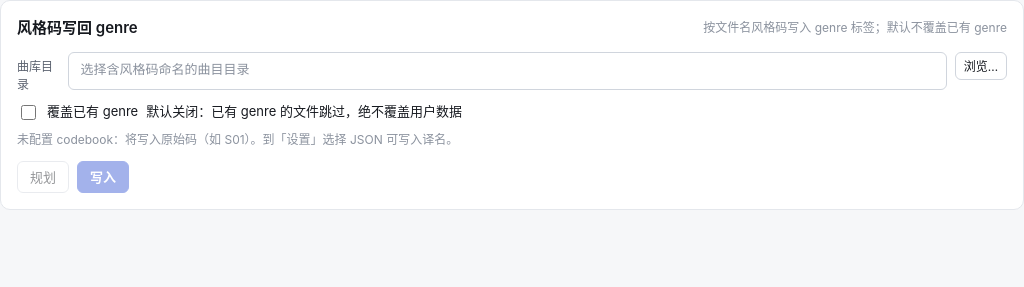
GenrePanel › 无可写项时「写入」仍禁用并给出说明
This screenshot has width=1024, height=287.
In the field labelled "曲库目录": (507, 70) [68, 52, 947, 90], type "/lib"
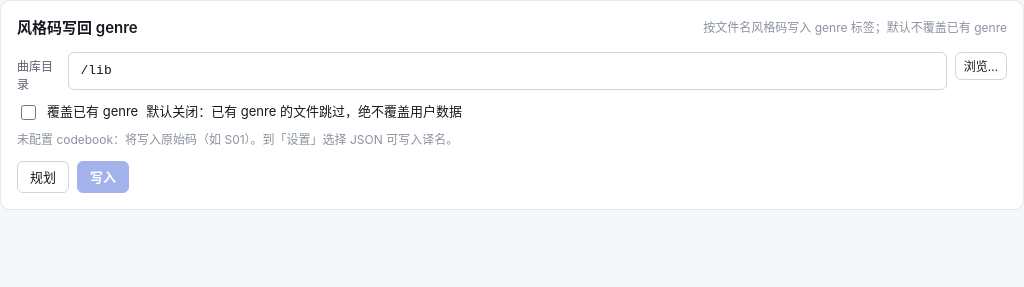
Click the button "规划": click(43, 176) [17, 160, 69, 192]
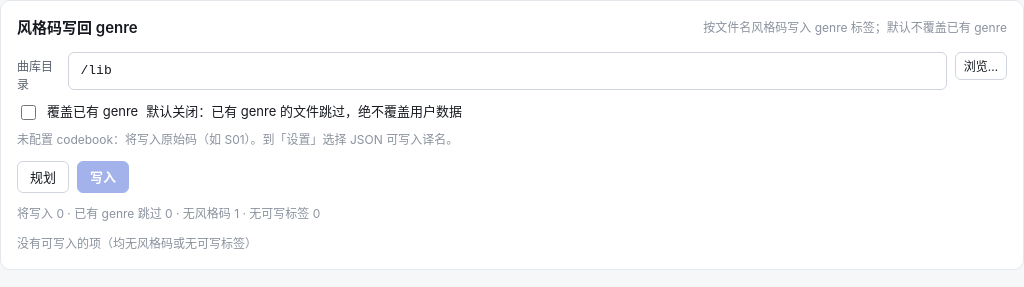
Expected: the button "写入" is disabled, [77, 160, 129, 192]
Expected: the text "没有可写入的项（均无风格码或无可写标签）" is shown, [17, 236, 257, 250]
